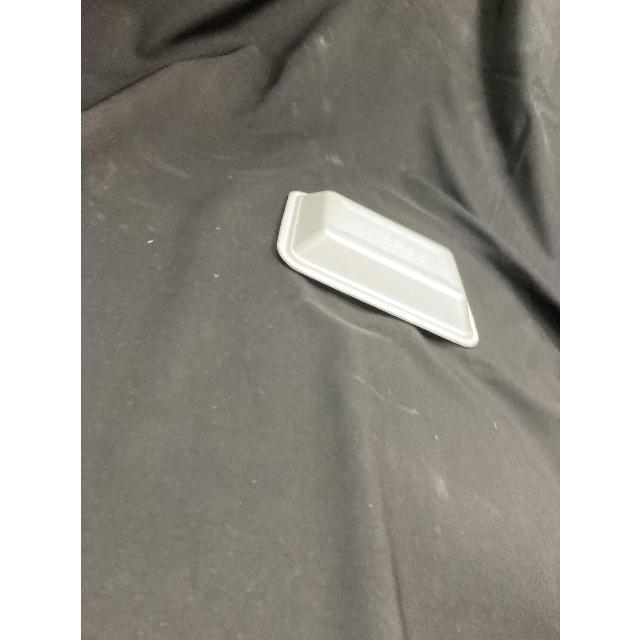Recipiente plastico: (278, 191, 479, 347)
